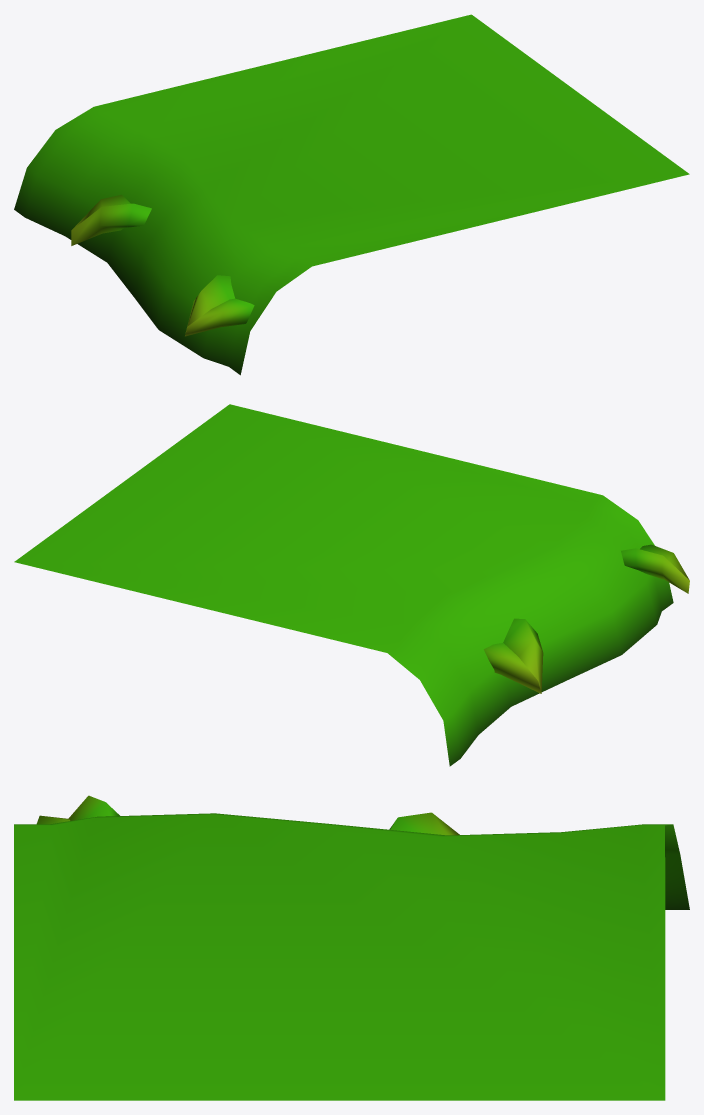
File: Surface_RoadUpInner.fbx
3 views of the same model, one above another, from view 1: azimuth 30°, elevation 25°; view 2: azimuth 150°, elevation 25°; view 3: azimuth 270°, elevation 25° (orthographic). The views are drawn at different scales.
Parts seen in each view (by area): view 1: Surface_RoadUpInner; view 2: Surface_RoadUpInner; view 3: Surface_RoadUpInner.
Boxes of the visible parts, x1,y1,x2,y2 form: Surface_RoadUpInner: (14,14,689,375); Surface_RoadUpInner: (14,404,689,766); Surface_RoadUpInner: (14,795,689,1100).
Size of the model in its own units: 2299 by 415 by 1861.
